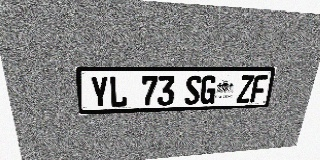3: (157, 76, 175, 106)
7: (141, 76, 158, 107)
F: (250, 75, 268, 102)
G: (199, 75, 217, 104)
L: (109, 76, 127, 108)
S: (184, 75, 202, 105)
Y: (89, 76, 109, 108)
Z: (236, 75, 254, 103)
